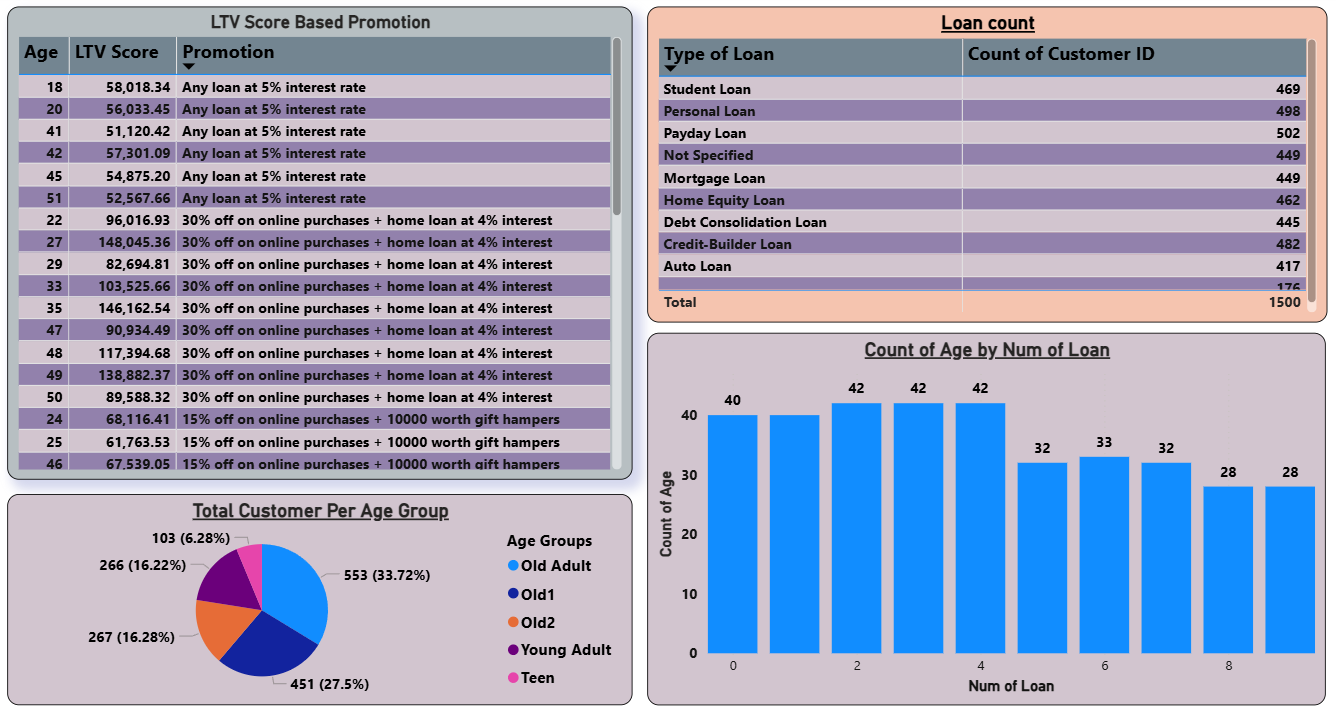

This screenshot's page, from the dashboard's own definition file:
{"tool":"powerbi","page":{"name":"Page 3","canvas":[1280,685],"ordinal":2},"visuals":[{"type":"tableEx","title":"LTV Score Based Promotion","fields":{"Values":["df.Age","Table.LTV Score","Table.Promotion"]},"box":[15.6,12,592.1,448.2],"z":0},{"type":"tableEx","title":"Loan count","fields":{"Values":["df (2).Type of Loan","df (2).Customer ID"]},"box":[621.3,11.8,643.8,299.4],"z":1000},{"type":"pieChart","title":"Total Customer Per Age Group","fields":{"Category":["df.Age Groups"],"Y":["Count(df.Customer ID)"]},"box":[15.6,473.4,592.1,200.1],"z":2000},{"type":"columnChart","fields":{"Y":["Count(df.Age)"],"Category":["df.Num of Loan"]},"box":[621.3,320.7,642.6,352.7],"z":3000}]}

Visuals, with their boxes in screenshot pixels (x1, y1, x2, y2), scaled from the page's 1280x685 canvas onto the 1336x710 screenshot:
"LTV Score Based Promotion" tableEx: 16, 12, 634, 477
"Loan count" tableEx: 648, 12, 1320, 323
"Total Customer Per Age Group" pieChart: 16, 491, 634, 698
columnChart - Count(df.Age) x df.Num of Loan: 648, 332, 1319, 698
